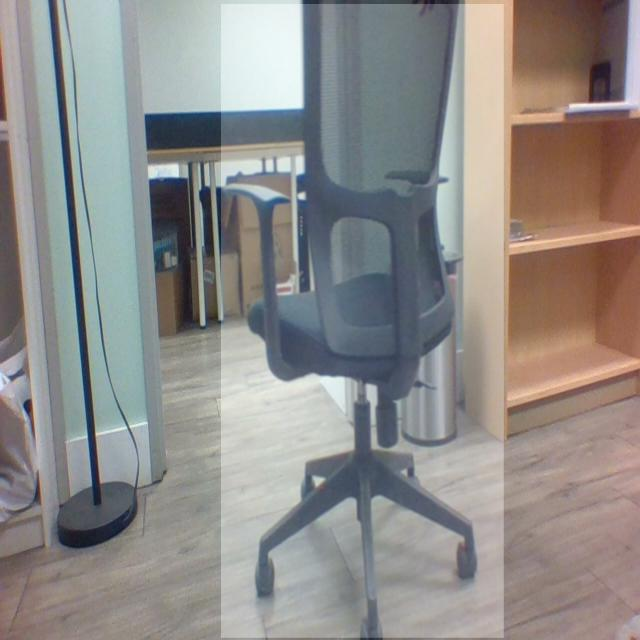black-chair: (221, 4, 505, 639)
